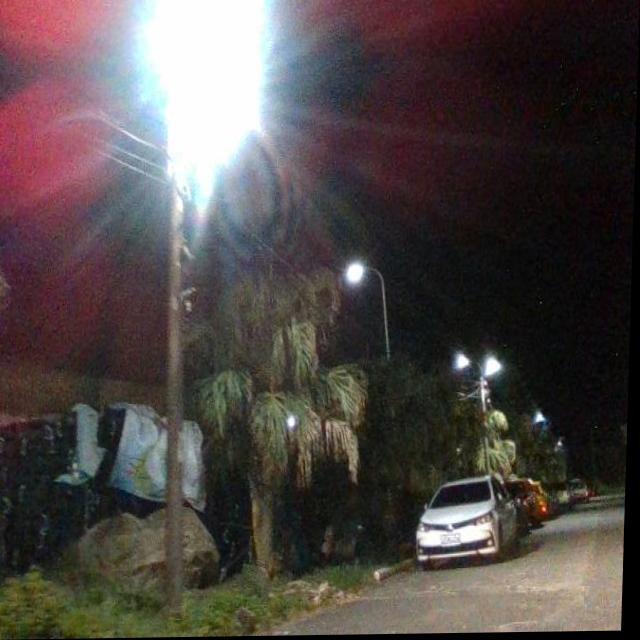pollute: (0, 396, 234, 606)
